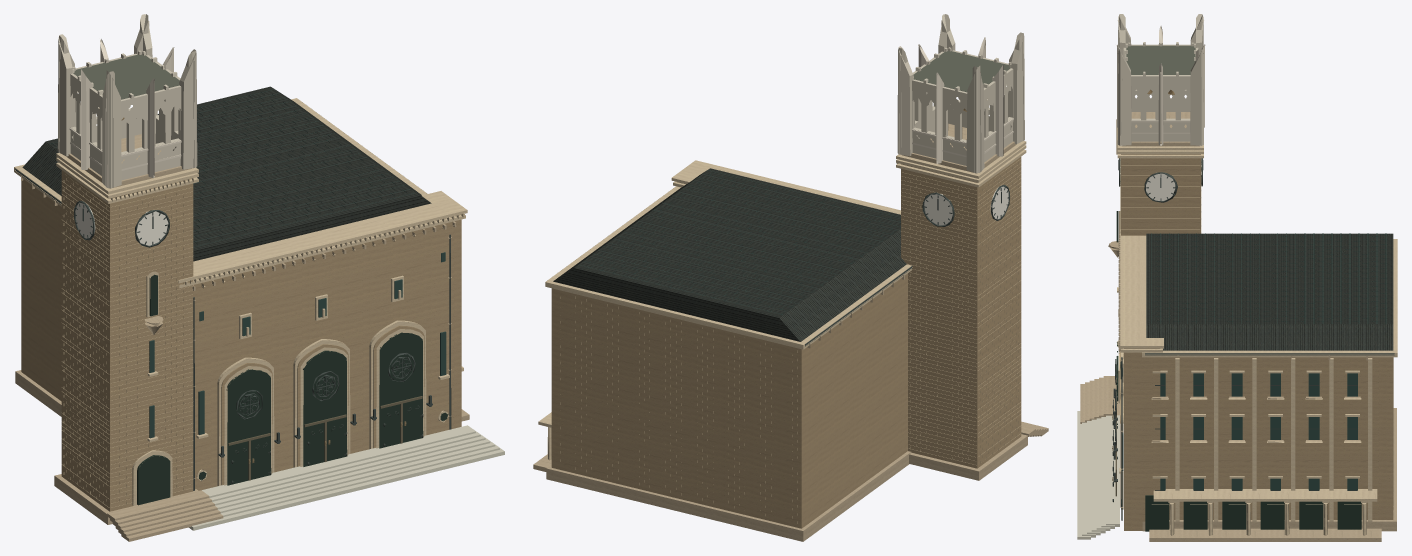
File: desk-okuma-auditorium.glb
3 views of the same model, side by side, from view 1: azimuth 30°, elevation 25°; view 2: azimuth 150°, elevation 25°; view 3: azimuth 270°, elevation 25° (orthographic). The views are drawn at different scales.
Parts seen in each view (by area): view 1: 大隈講堂 · Stone b59a66, 大隈講堂 · Slate 696e59, 大隈講堂 · Stone e3ce9d, Raked stone corner fins and recessed Gothic bell chamber, 大隈講堂 · Finish 29392f, 大隈講堂 · Finish d9d5c1, 大隈講堂 · Stone ccb78b, 大隈講堂 · Finish cbb996, 大隈講堂 · Finish 344c46, 大隈講堂 · Finish 444d48, 大隈講堂 · Finish f3eee0, 大隈講堂 · Finish 6f6751; view 2: 大隈講堂 · Stone b59a66, 大隈講堂 · Slate 696e59, Raked stone corner fins and recessed Gothic bell chamber, 大隈講堂 · Stone ccb78b, 大隈講堂 · Stone e3ce9d, 大隈講堂 · Finish cbb996, 大隈講堂 · Finish 344c46, 大隈講堂 · Finish f3eee0, 大隈講堂 · Finish 444d48; view 3: 大隈講堂 · Stone b59a66, 大隈講堂 · Slate 696e59, 大隈講堂 · Stone e3ce9d, 大隈講堂 · Finish 344c46, Raked stone corner fins and recessed Gothic bell chamber, 大隈講堂 · Stone ccb78b, 大隈講堂 · Finish d9d5c1, 大隈講堂 · Finish 29392f, 大隈講堂 · Finish 444d48, 大隈講堂 · Finish cbb996, 大隈講堂 · Finish f3eee0.
Part boxes in pixels (x1=…): 大隈講堂 · Stone b59a66: x1=21, y1=170, x2=461, y2=511; 大隈講堂 · Slate 696e59: x1=22, y1=86, x2=431, y2=261; 大隈講堂 · Stone e3ce9d: x1=14, y1=98, x2=467, y2=505; Raked stone corner fins and recessed Gothic bell chamber: x1=57, y1=14, x2=197, y2=188; 大隈講堂 · Finish 29392f: x1=137, y1=274, x2=448, y2=505; 大隈講堂 · Finish d9d5c1: x1=189, y1=425, x2=504, y2=530; 大隈講堂 · Stone ccb78b: x1=15, y1=134, x2=469, y2=541; 大隈講堂 · Finish cbb996: x1=62, y1=178, x2=192, y2=507; 大隈講堂 · Finish 344c46: x1=51, y1=89, x2=446, y2=438; 大隈講堂 · Finish 444d48: x1=15, y1=169, x2=451, y2=490; 大隈講堂 · Finish f3eee0: x1=75, y1=202, x2=168, y2=245; 大隈講堂 · Finish 6f6751: x1=228, y1=396, x2=422, y2=480; 大隈講堂 · Stone b59a66: x1=551, y1=157, x2=1021, y2=528; 大隈講堂 · Slate 696e59: x1=553, y1=168, x2=906, y2=341; Raked stone corner fins and recessed Gothic bell chamber: x1=897, y1=14, x2=1024, y2=173; 大隈講堂 · Stone ccb78b: x1=533, y1=123, x2=1048, y2=541; 大隈講堂 · Stone e3ce9d: x1=538, y1=141, x2=1026, y2=460; 大隈講堂 · Finish cbb996: x1=560, y1=159, x2=1021, y2=523; 大隈講堂 · Finish 344c46: x1=580, y1=170, x2=900, y2=314; 大隈講堂 · Finish f3eee0: x1=924, y1=185, x2=1008, y2=225; 大隈講堂 · Finish 444d48: x1=805, y1=184, x2=1009, y2=346; 大隈講堂 · Stone b59a66: x1=1120, y1=154, x2=1393, y2=530; 大隈講堂 · Slate 696e59: x1=1146, y1=233, x2=1393, y2=350; 大隈講堂 · Stone e3ce9d: x1=1116, y1=119, x2=1397, y2=535; 大隈講堂 · Finish 344c46: x1=1120, y1=233, x2=1387, y2=490; Raked stone corner fins and recessed Gothic bell chamber: x1=1116, y1=14, x2=1205, y2=145; 大隈講堂 · Stone ccb78b: x1=1080, y1=112, x2=1396, y2=541; 大隈講堂 · Finish d9d5c1: x1=1077, y1=411, x2=1119, y2=539; 大隈講堂 · Finish 29392f: x1=1116, y1=211, x2=1361, y2=531; 大隈講堂 · Finish 444d48: x1=1113, y1=158, x2=1394, y2=520; 大隈講堂 · Finish cbb996: x1=1120, y1=158, x2=1393, y2=509; 大隈講堂 · Finish f3eee0: x1=1120, y1=165, x2=1201, y2=200.
Bounding box in the file's own units: 33.46 × 38 × 29.32.
Materials: 17 (4 with a texture image).
